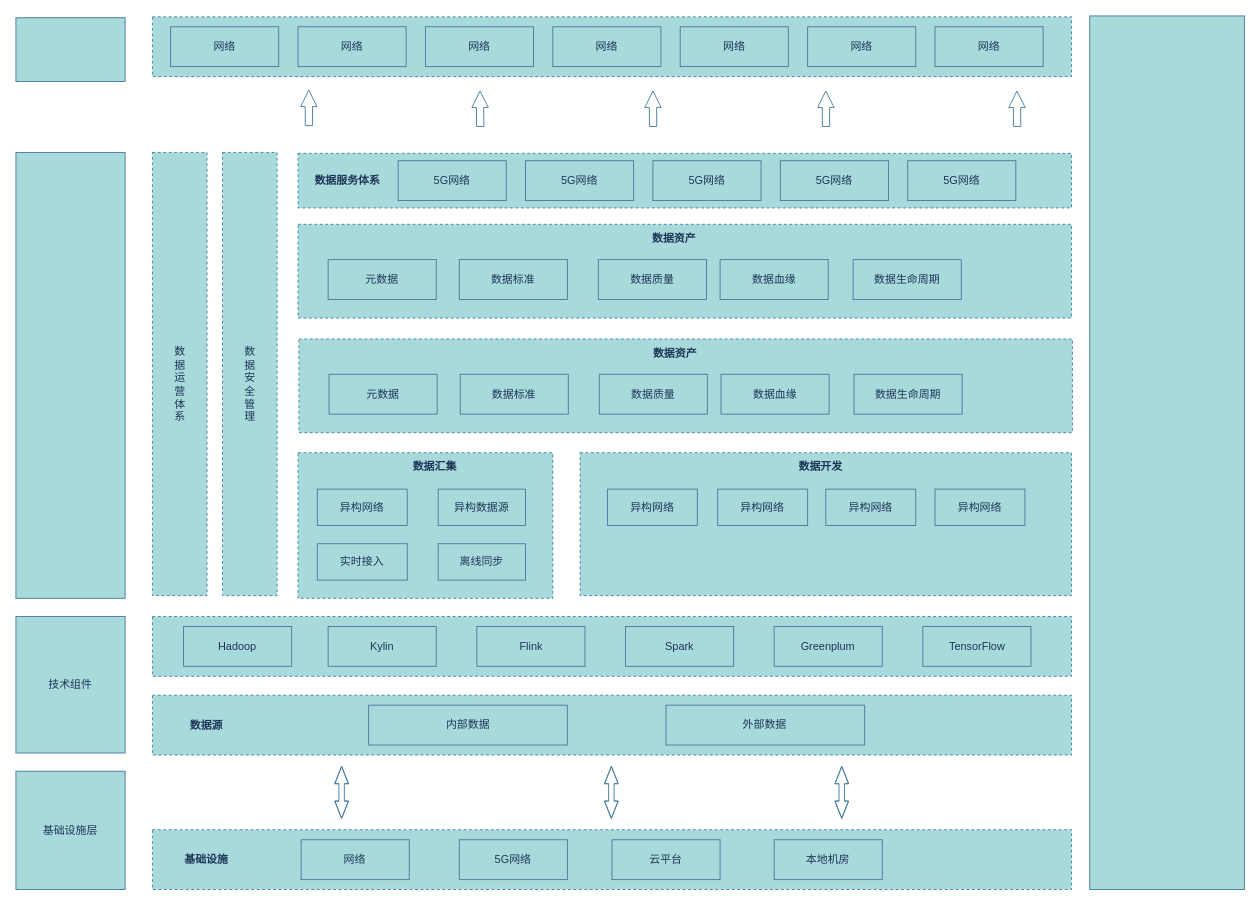
Image size: 1260x905. Some labels were removed from this diagram. The centre of each missing label's shape, as x and y in pixels:
应用层: point (70, 49)
数据中台: point (70, 375)
